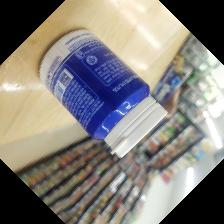Xylitol_blue: (38, 29, 169, 160)
